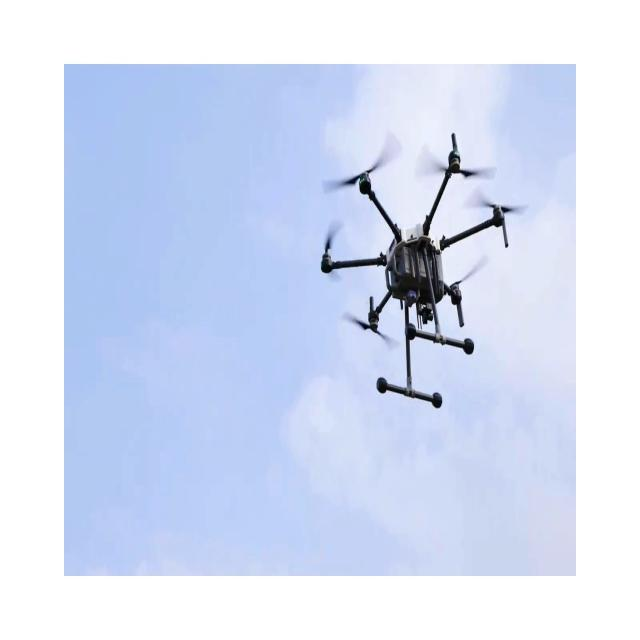drone: (320, 129, 528, 409)
